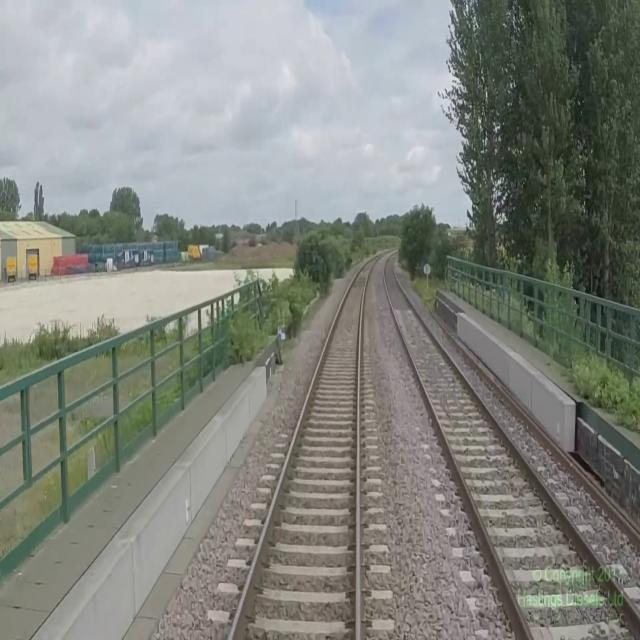rail-track: (384, 252, 640, 639), (232, 257, 377, 639)
